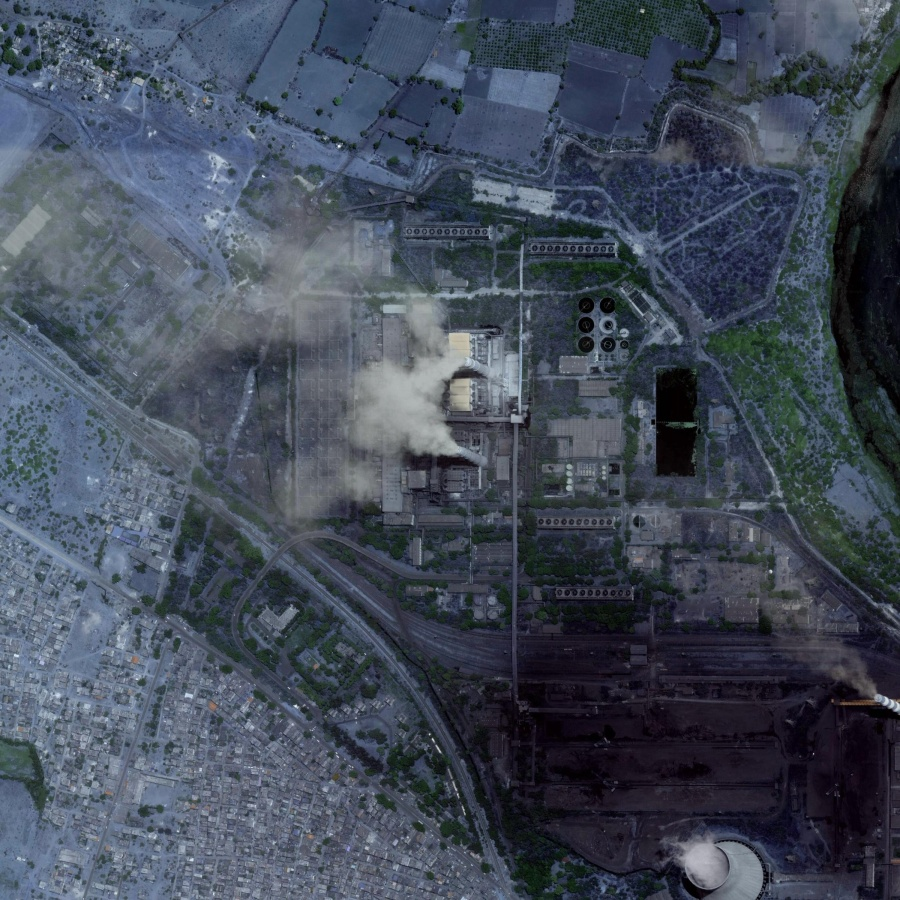PowerPlant: (298, 217, 570, 537)
